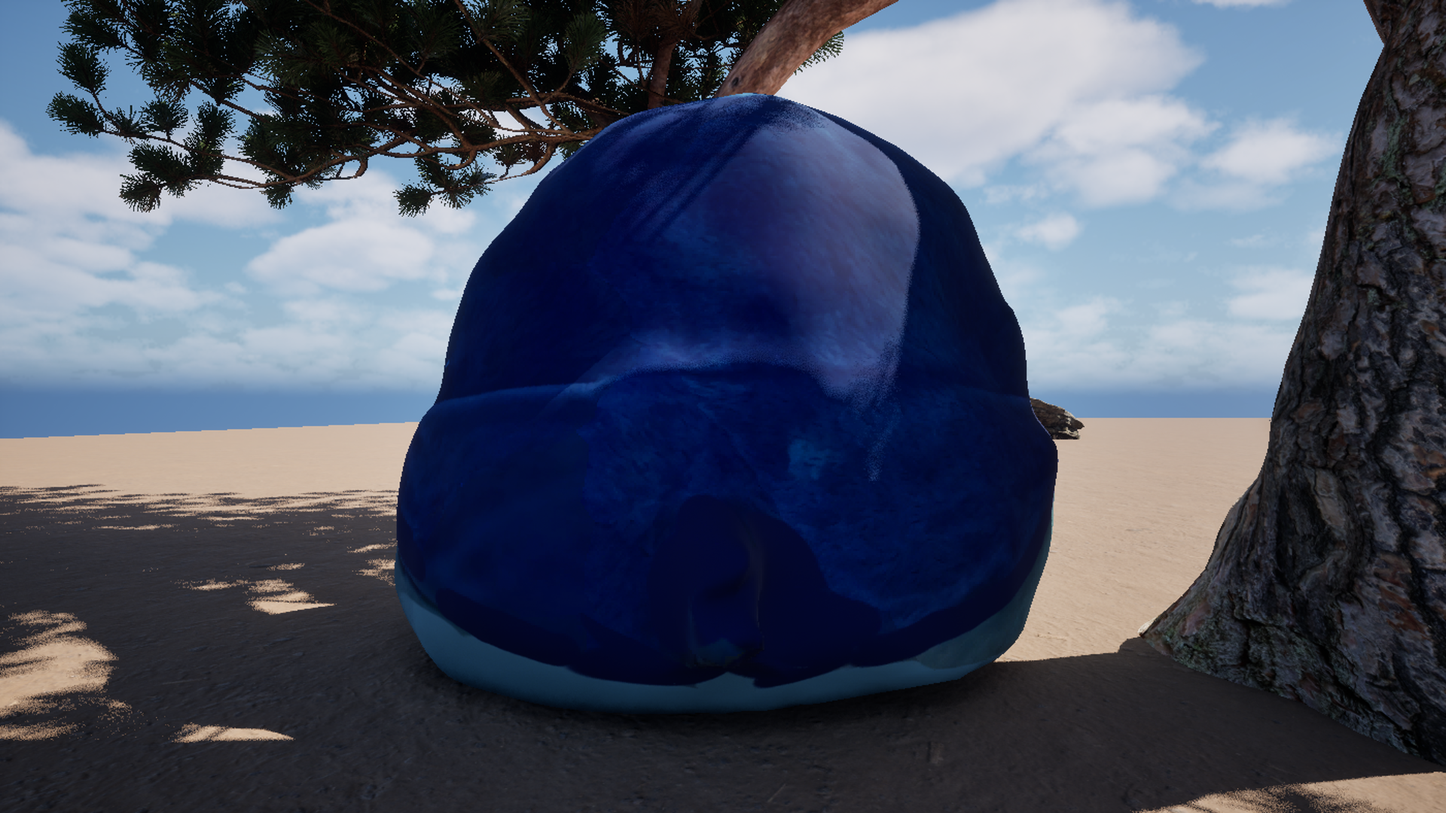Piplup: (167, 0, 1265, 813)
